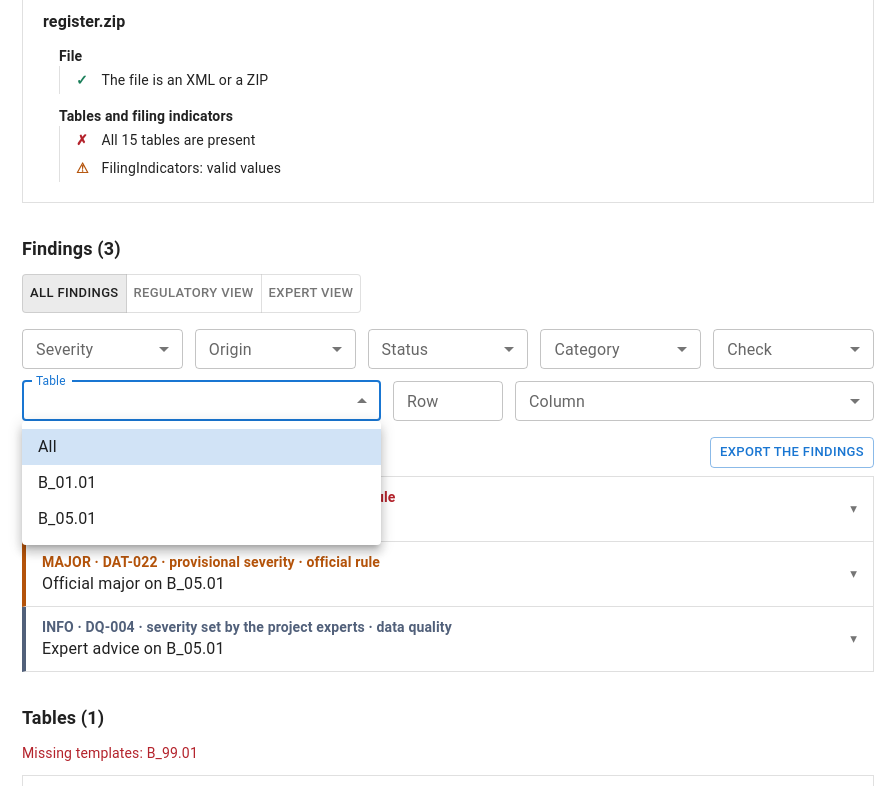
Test: Combined filters (brief §7, §31.1) › combines the view, the table, the row and the severity, then resets them
Earlier steps of the test are not shown.
(page scrolled)
Click the option "B_05.01" at (67, 518), box [38,509,96,528]
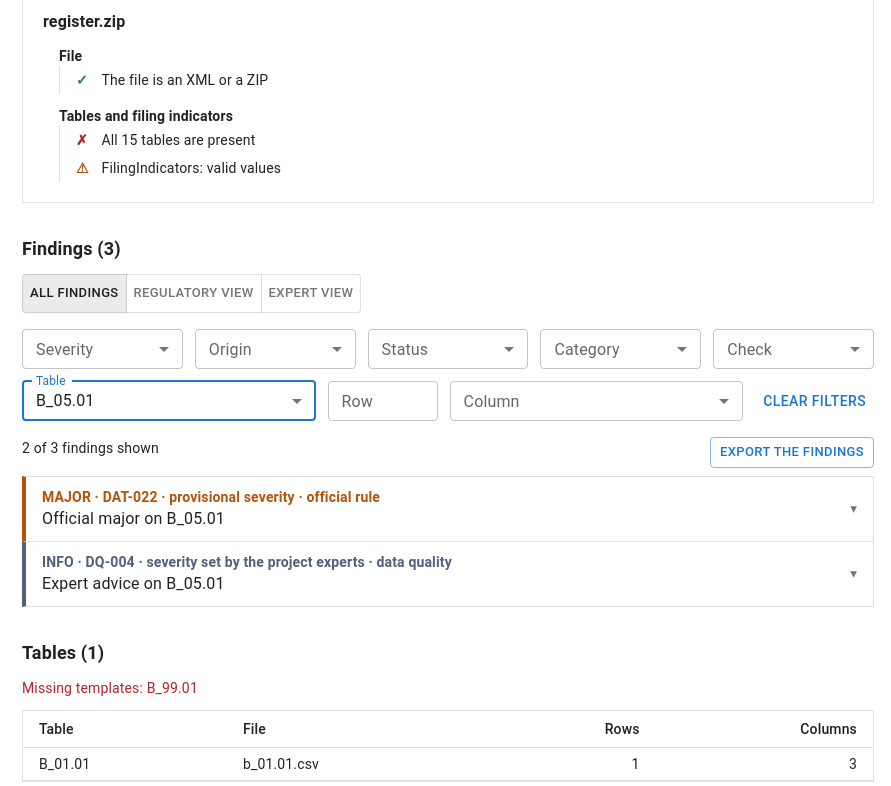
Now the text "2 of 3 findings shown" is shown, box [22,438,159,458]
Click the button "Regulatory view" at (194, 294), box [126,274,262,313]
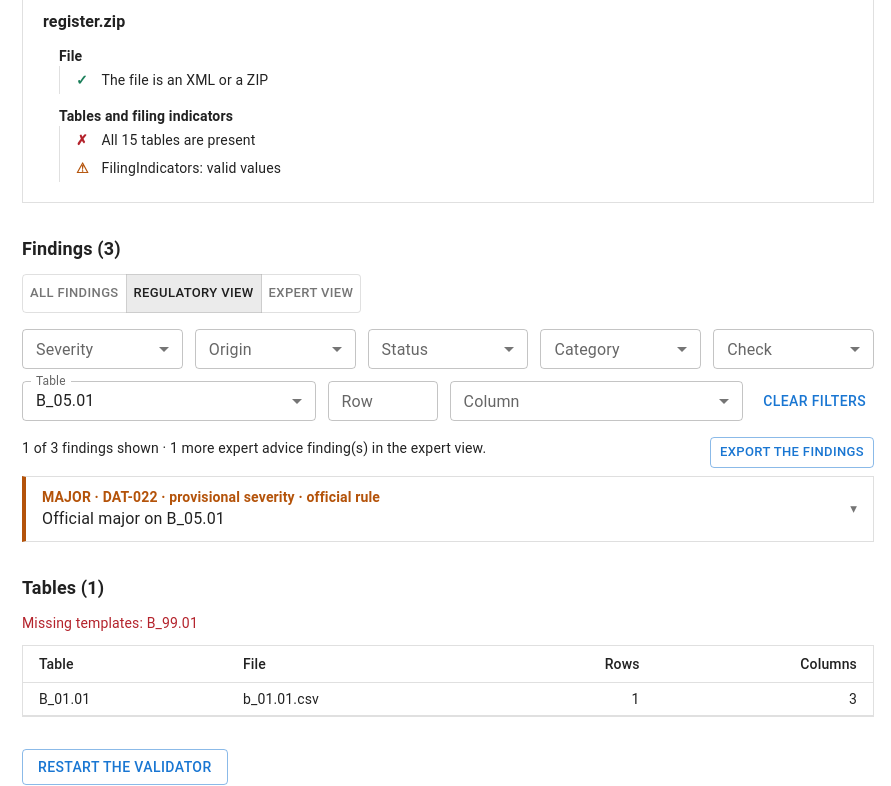
Expected: the text "Official major on B_05.01" is shown, [42,509,225,528]
Now the text "1 of 3 findings shown · 1 more expert advice finding(s) in the expert view." is shown, box [22,438,486,458]
Now the button "Expert advice on B_05.01" is gone
Click the button "All findings" at (74, 294), box [22,274,127,313]
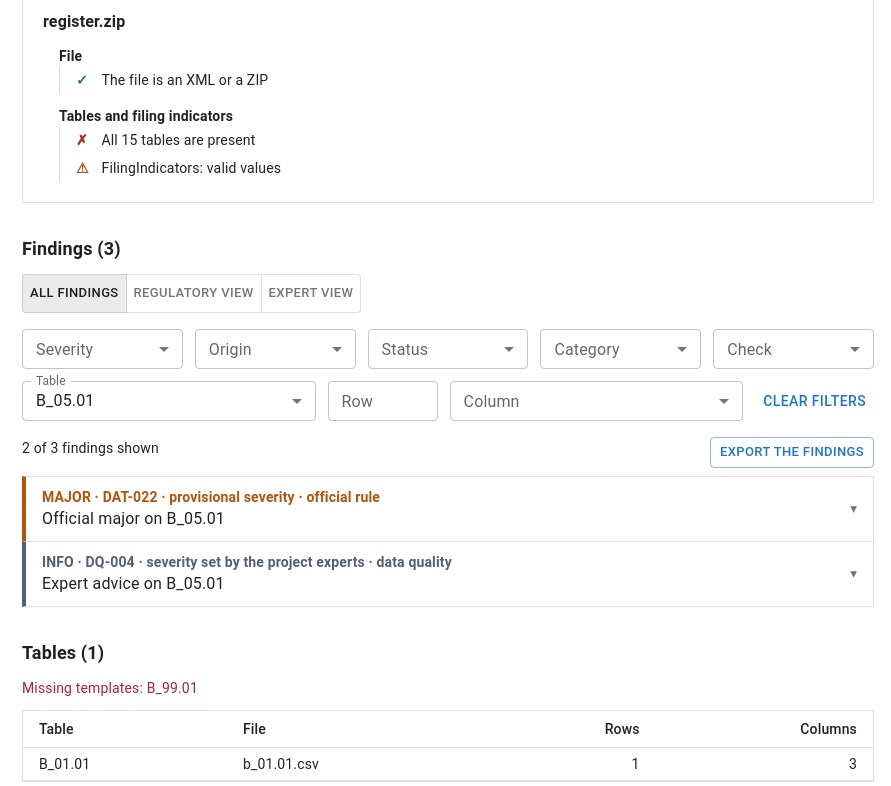
Type "7" into the number field labelled "Row" at (383, 401), box [328,381,438,421]
Click the 1st dropdown named "Severity" at (102, 349), box [22,329,183,369]
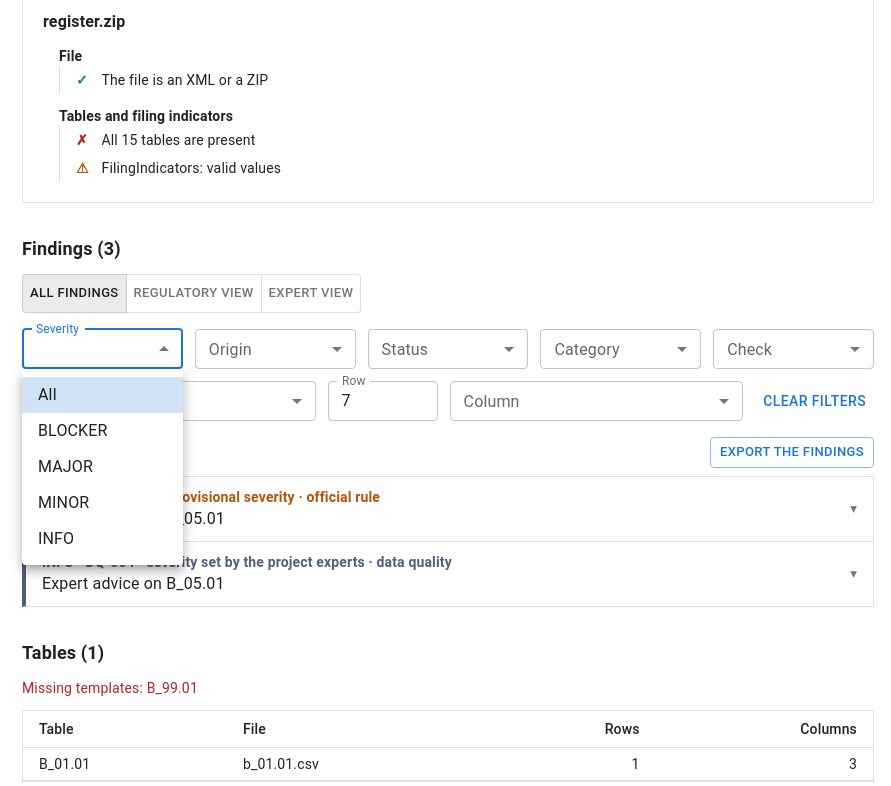
Click the option "INFO" at (56, 538), box [38,529,74,548]
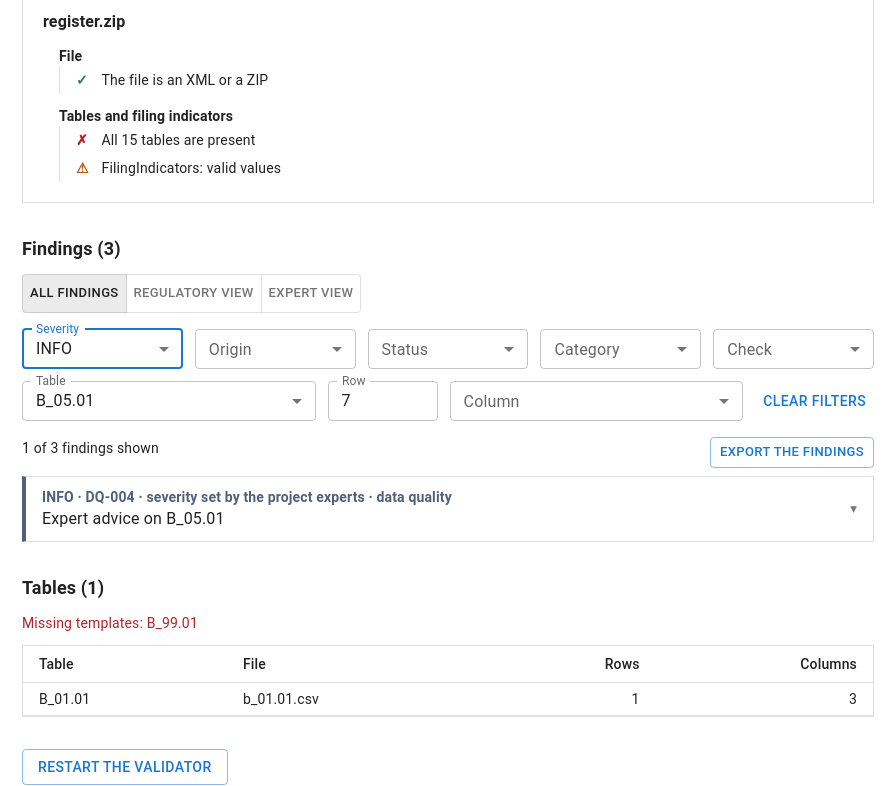
Now the text "Expert advice on B_05.01" is shown, box [42,509,225,528]
Now the text "1 of 3 findings shown" is shown, box [22,438,159,458]
Click the button "Clear filters" at (815, 401), box [755,381,874,421]
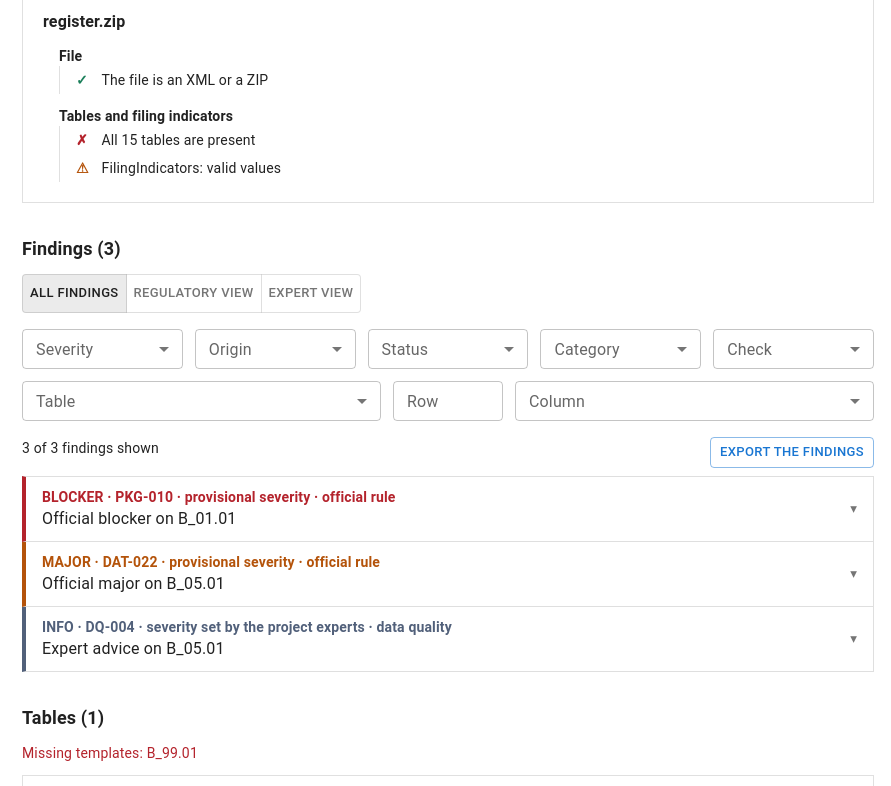
Now the text "3 of 3 findings shown" is shown, box [22,438,159,458]
